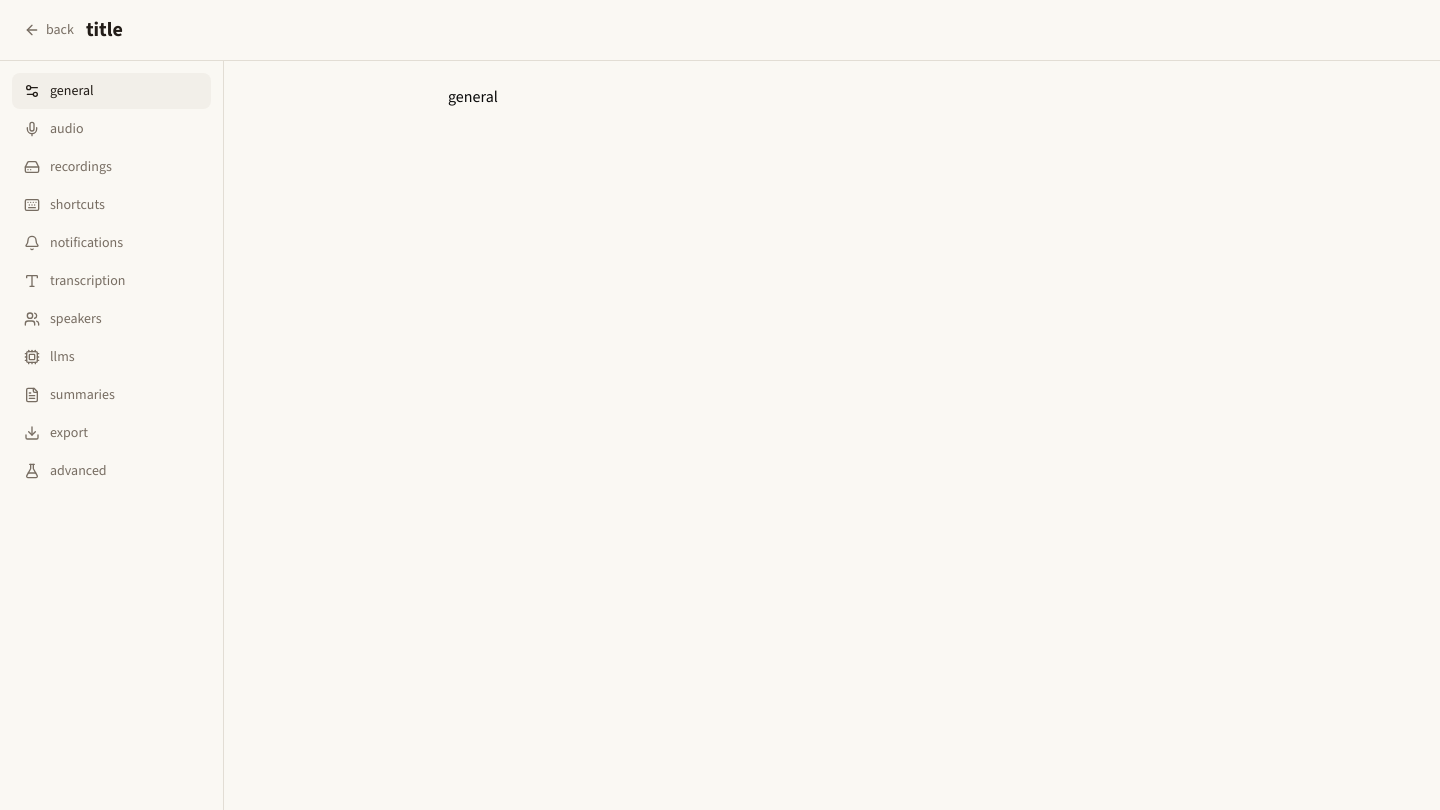
SettingsShell › defaults to general section and updates on click
Check: the text with test id "content" reads "general", box [448, 86, 498, 107]
Click the button "audio". click: (112, 129)
box: [12, 111, 211, 147]
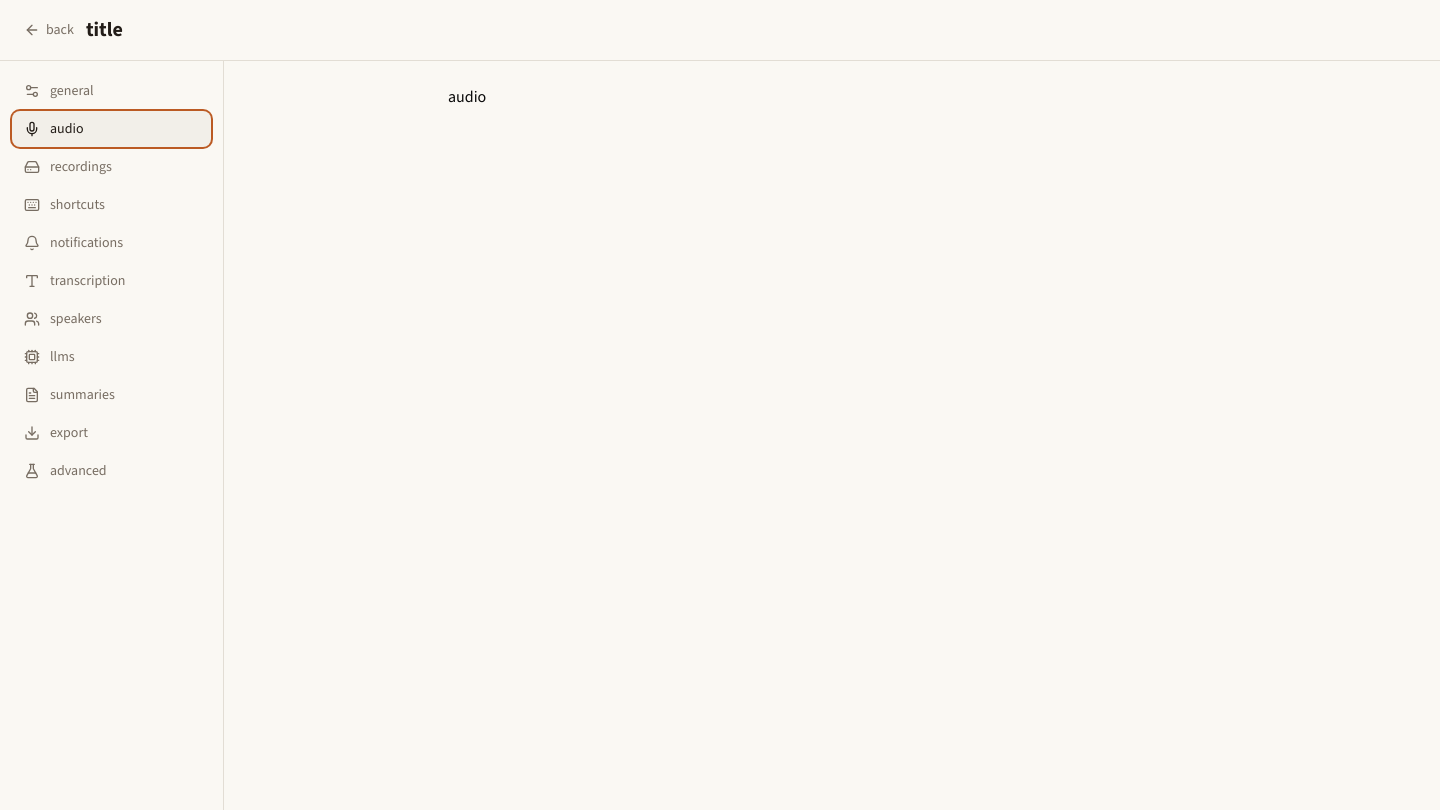
Check: the text with test id "content" reads "audio", box [448, 86, 486, 107]
